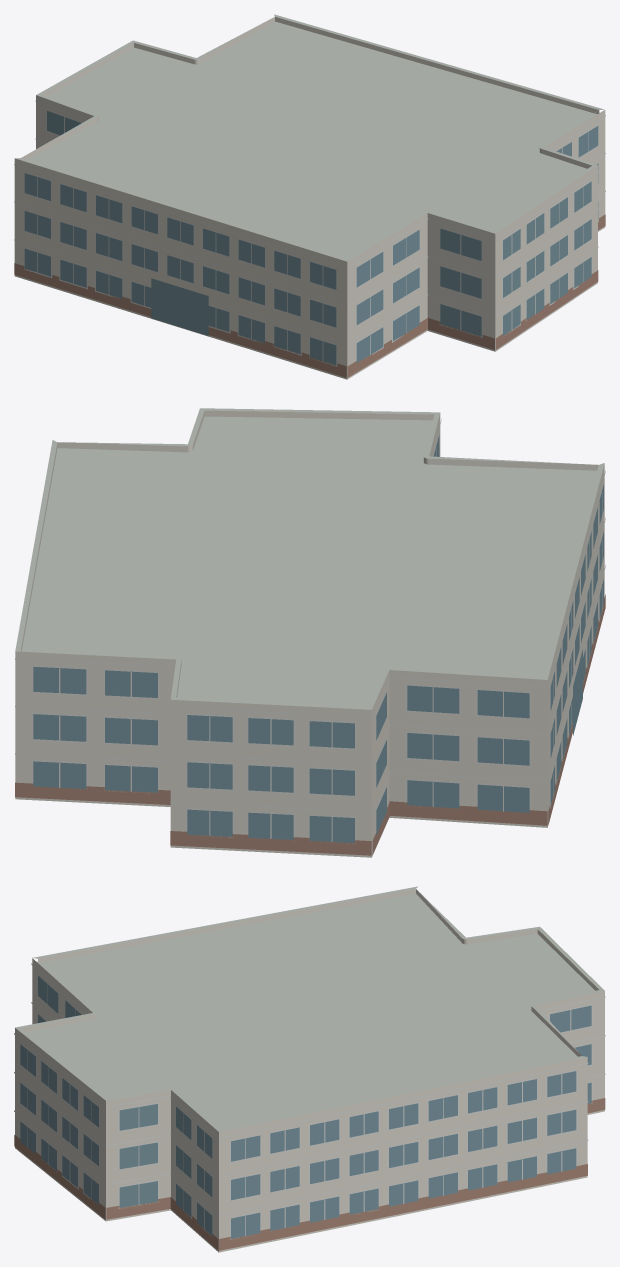
The model's file is public-349c397d-0bde-4326-8350-6805ec18b338.glb.
3 renders of one model, top to bottom at view 1: azimuth 30°, elevation 25°; view 2: azimuth 150°, elevation 25°; view 3: azimuth 270°, elevation 25°, orthographic. The views are drawn at different scales.
Visible parts, largest first — view 1: public-349c397d-0bde-4326-8350-6805ec18b338; view 2: public-349c397d-0bde-4326-8350-6805ec18b338; view 3: public-349c397d-0bde-4326-8350-6805ec18b338.
Boxes of the visible parts, bbox=[...] form: public-349c397d-0bde-4326-8350-6805ec18b338: bbox=[14, 14, 605, 379]; public-349c397d-0bde-4326-8350-6805ec18b338: bbox=[15, 408, 605, 857]; public-349c397d-0bde-4326-8350-6805ec18b338: bbox=[14, 886, 605, 1252].
Bounding box in the file's own units: 40.11 × 9.15 × 40.71.
